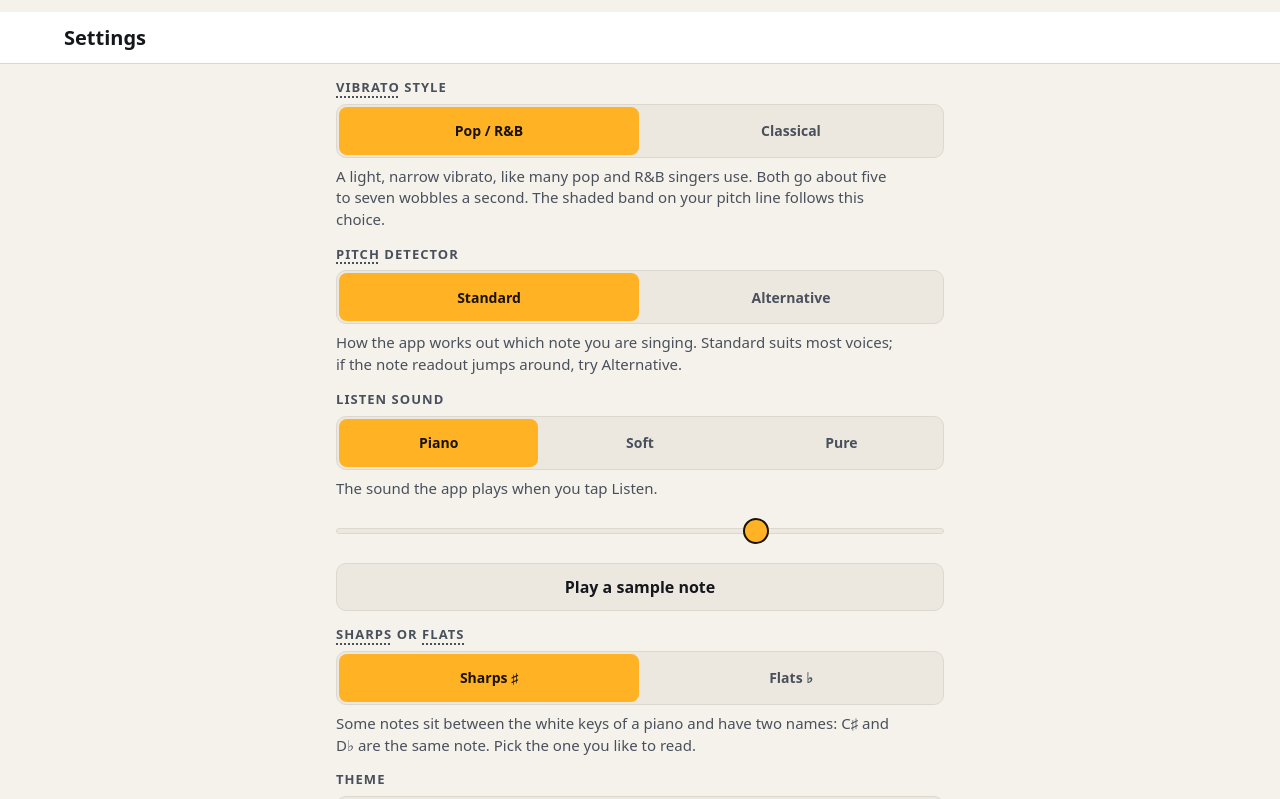
Scenario: Settings: the vibrato style is earned › appears, working, once the Foundations Boss Recital has been passed
Expected: the element named "Vibrato style" is shown, [336,104,944,158]
Expected: the text with test id "vibrato-words" shows "A light, narrow vibrato", [336,166,886,207]
Click the radio button labelled "Classical": (791, 131) [641,107,941,155]
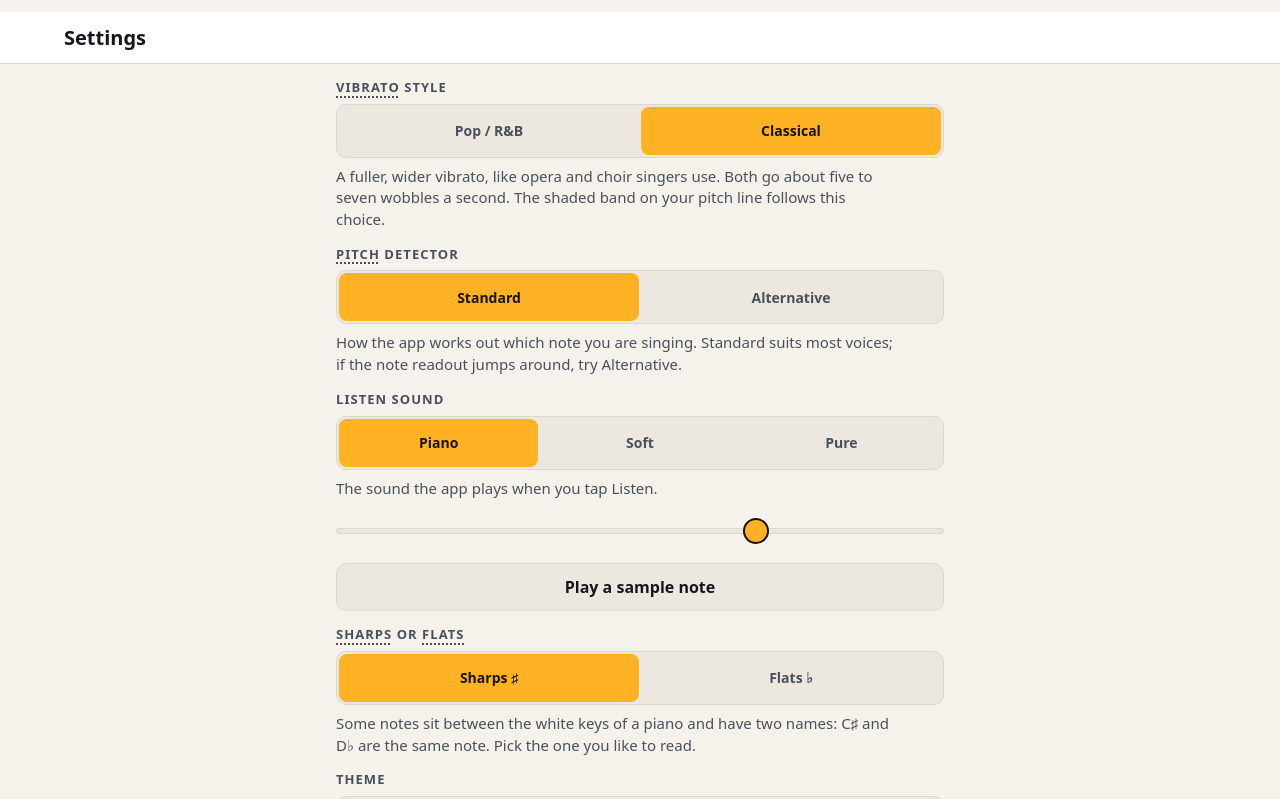
Now the text with test id "vibrato-words" shows "A fuller, wider vibrato", box [336,166,873,207]
